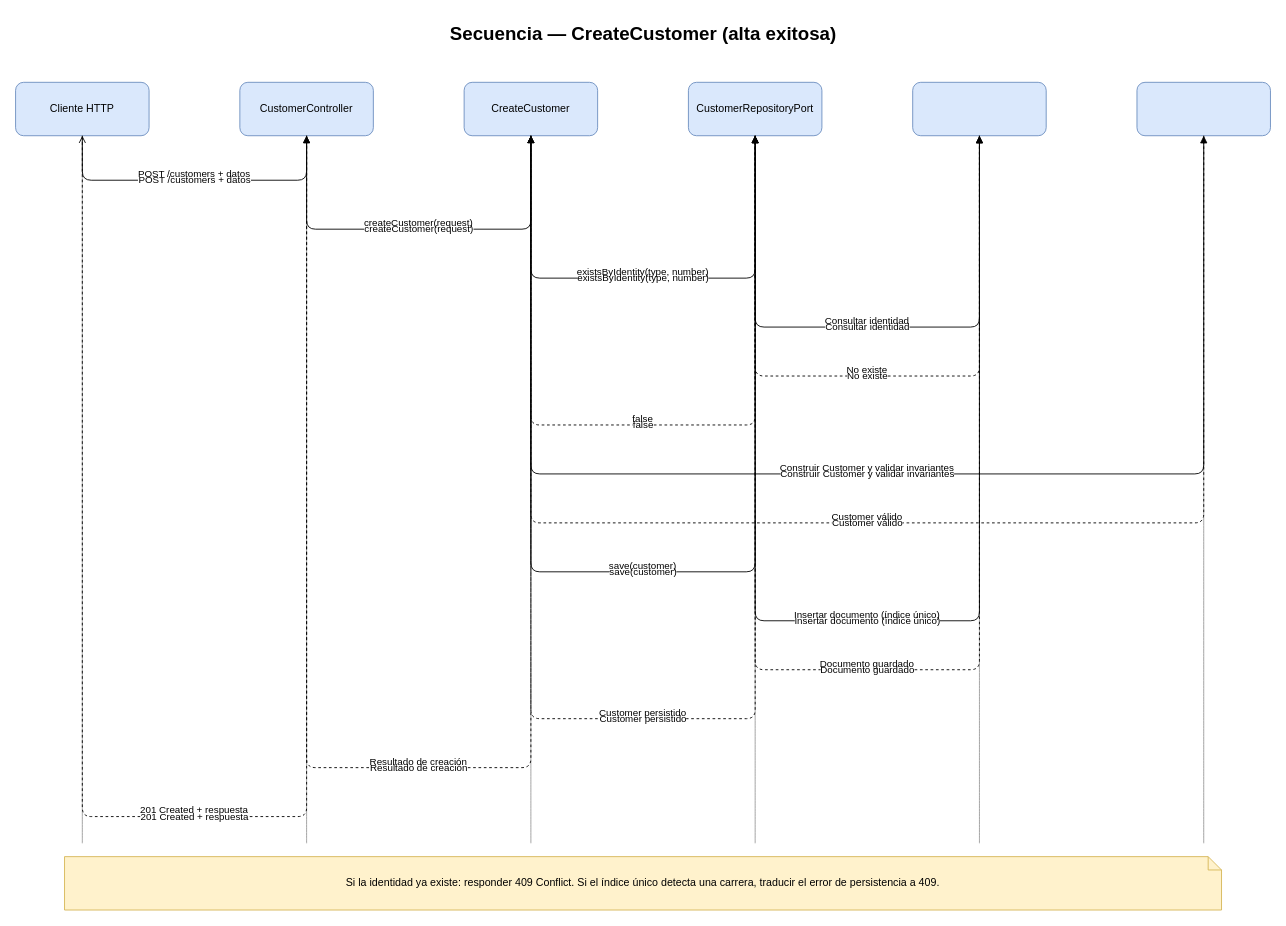
Image size: 1286x926. Some labels were removed from this diagram. Here are the shapes that lost their labels. From the top down, the box of each, then its label:
(912, 81, 1046, 136): Mongo Adapter / MongoDB
(1136, 81, 1270, 136): Customer
